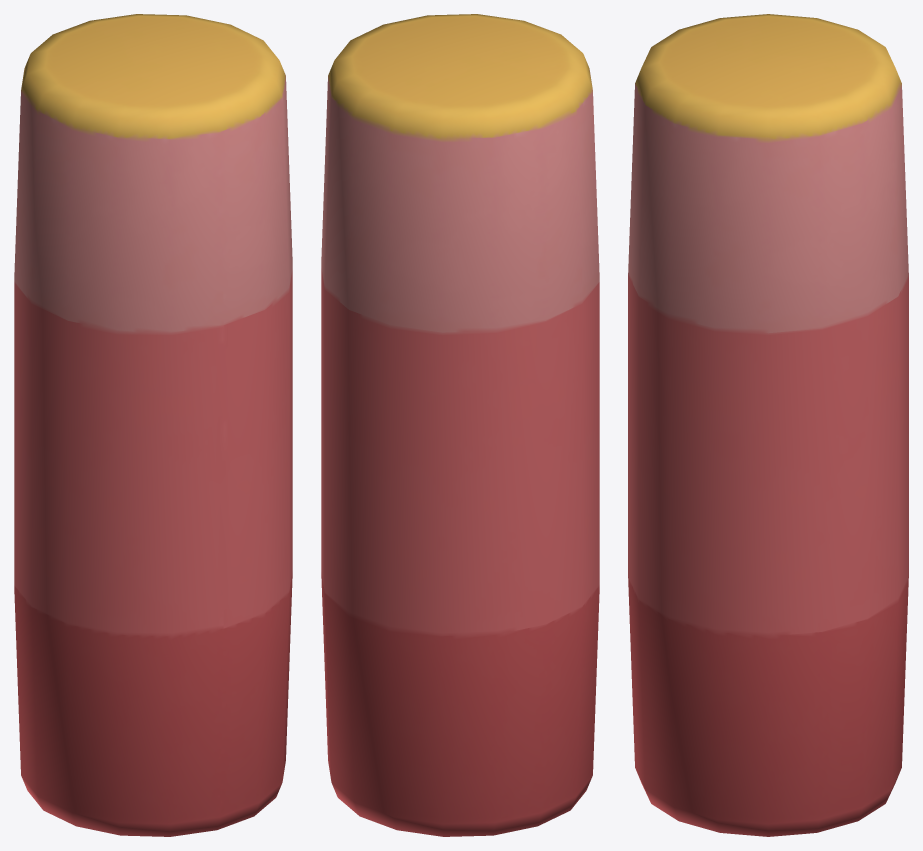
The model's file is ColorfulPole.fbx.
3 renders of one model, left to right at view 1: azimuth 30°, elevation 25°; view 2: azimuth 150°, elevation 25°; view 3: azimuth 270°, elevation 25°, orthographic.
Parts seen in each view (by area): view 1: ColorfulPole; view 2: ColorfulPole; view 3: ColorfulPole.
Part boxes in pixels (x1,y1,x2,y2): ColorfulPole: (14, 14, 292, 836); ColorfulPole: (321, 14, 599, 836); ColorfulPole: (628, 14, 908, 836).
Bounding box in the file's own units: 106 × 304 × 106.
